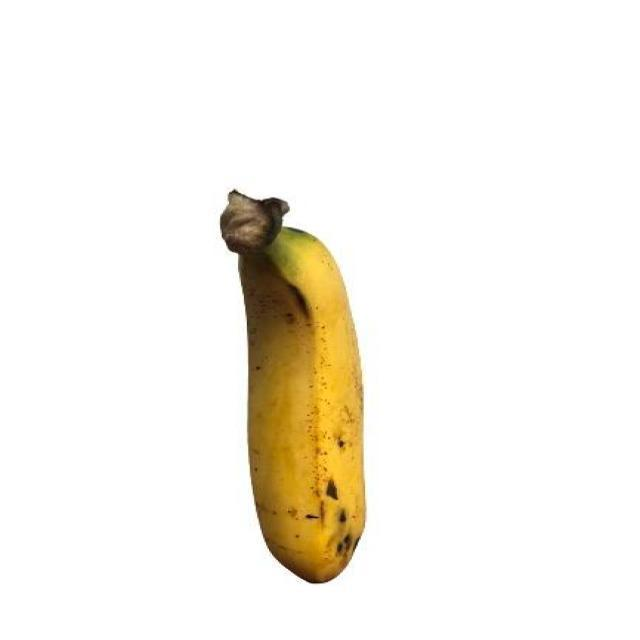Banana: (206, 185, 370, 590)
